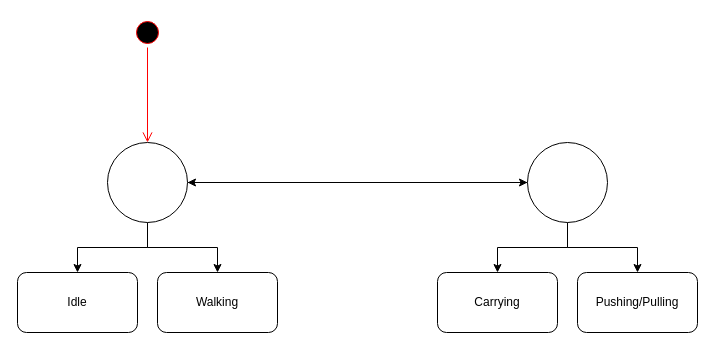
Image size: 715x350. Some labels were removed from this diagram. The shapes that lost their labels are listed below. From the top down, each one's centre as x and y in pixels, then its label:
At (147,182): "Grounded".
At (567,182): "Interacting".
